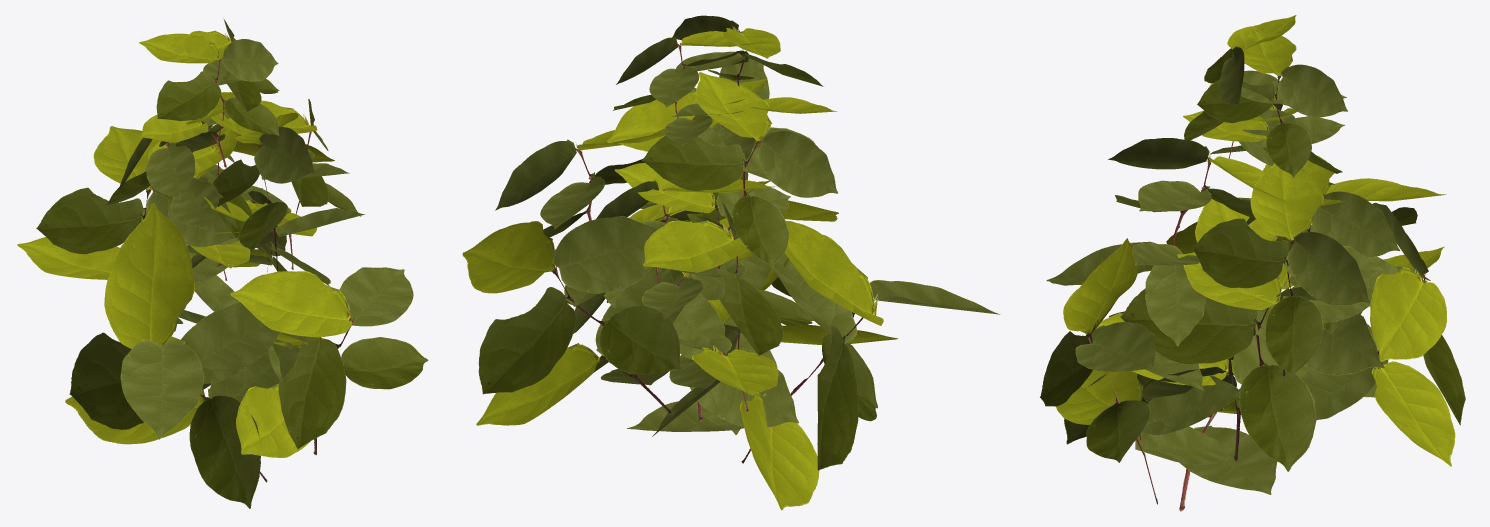
The model's file is PNW Plant_A_Small_512.glb.
The picture shows the model from 3 angles, left to right: view 1: azimuth 30°, elevation 25°; view 2: azimuth 150°, elevation 25°; view 3: azimuth 270°, elevation 25°; orthographic projection. The views are drawn at different scales.
Parts seen in each view (by area): view 1: Plant_A_Small_512; view 2: Plant_A_Small_512; view 3: Plant_A_Small_512.
Boxes of the visible parts, left/top/right/bottom form: Plant_A_Small_512: left=17, top=19, right=428, bottom=508; Plant_A_Small_512: left=462, top=15, right=1000, bottom=510; Plant_A_Small_512: left=1040, top=15, right=1465, bottom=511.
Size of the model in its own units: 0.5842 by 0.6915 by 0.5981.
1 material, 1 textured.
